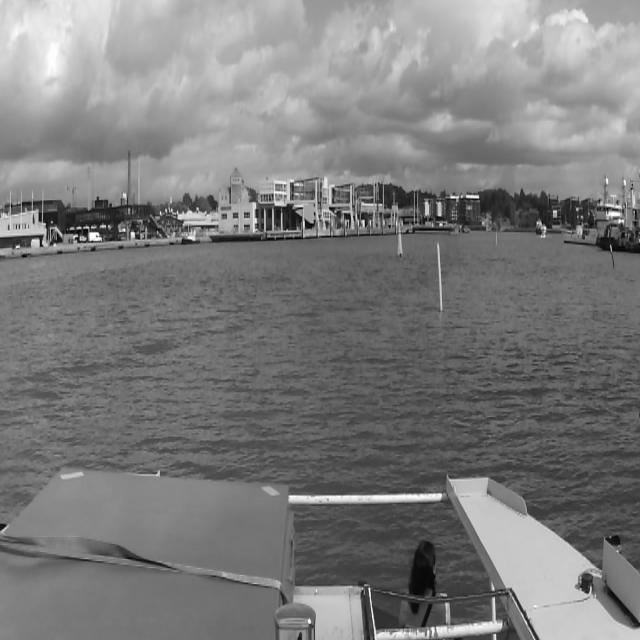buoy: (437, 244, 443, 316), (396, 218, 402, 258), (609, 244, 615, 268), (496, 233, 496, 245)
ship: (596, 178, 640, 252), (181, 226, 201, 246), (537, 220, 545, 236), (540, 233, 546, 240)
